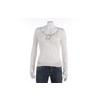maglia: (30, 26, 67, 72)
